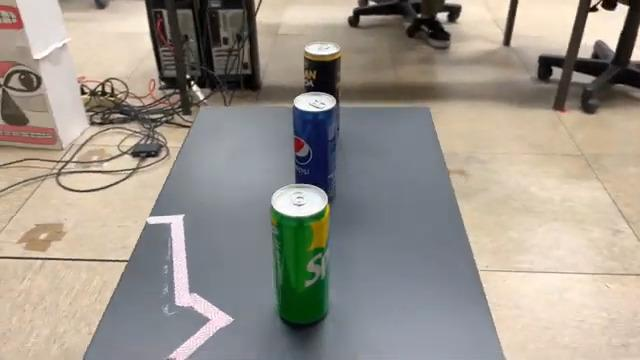OranSoda: (300, 38, 344, 150)
Pepsi: (290, 89, 340, 206)
Sprite: (263, 180, 337, 332)
